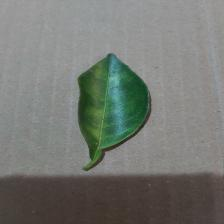greening: (62, 58, 140, 141)
